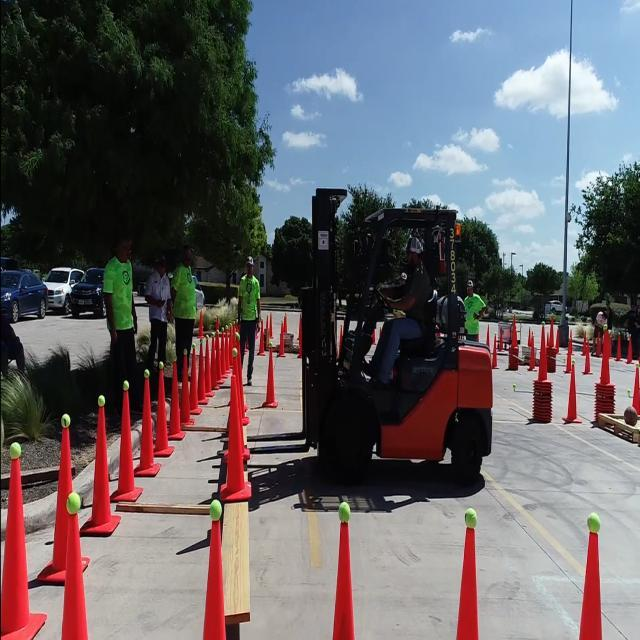driver: (368, 235, 436, 382)
forklift: (296, 178, 496, 498)
person: (104, 228, 140, 376), (236, 255, 262, 366), (462, 272, 488, 349), (179, 242, 197, 352), (148, 260, 170, 343)
